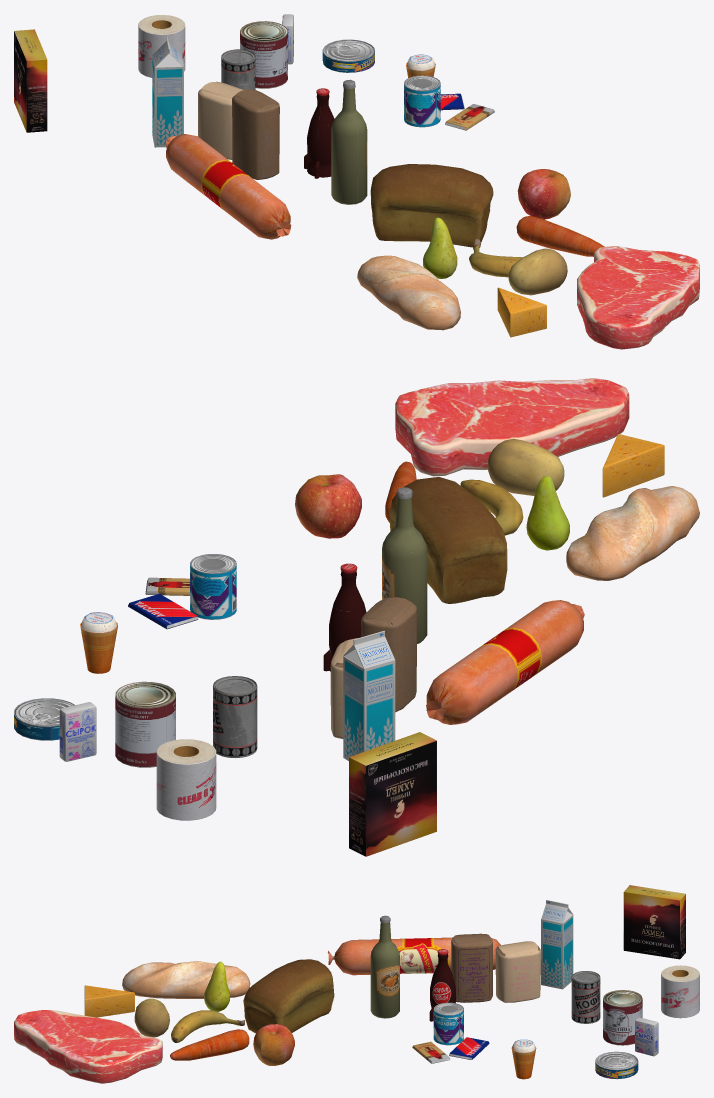
File: russian_food_2000s__food_asset_pack.glb
The picture shows the model from 3 angles, top to bottom: view 1: azimuth 30°, elevation 25°; view 2: azimuth 150°, elevation 25°; view 3: azimuth 270°, elevation 25°; orthographic projection. The views are drawn at different scales.
Parts seen in each view (by area): view 1: meat, bread, sausage, bread1, buckwheat, lemonade, tea, milk, stew, rice, apple, potato (+11 smaller); view 2: meat, sausage, bread, tea, bread1, milk, toilet_paper, stew, lemonade, cofe, buckwheat, apple (+12 smaller); view 3: meat, bread, tea, bread1, sausage, buckwheat, milk, rice, lemonade, toilet_paper, stew, cofe (+13 smaller).
Boxes of the visible parts, x1,y1,x2,y2 form: meat: (577, 246, 699, 349); bread: (370, 164, 493, 247); sausage: (165, 134, 291, 239); bread1: (357, 255, 460, 330); buckwheat: (232, 89, 279, 179); lemonade: (331, 79, 367, 204); tea: (14, 29, 47, 132); milk: (152, 37, 183, 147); stew: (240, 21, 287, 88); rice: (198, 81, 243, 159); apple: (517, 169, 570, 219); potato: (508, 248, 567, 295); meat: (395, 378, 629, 476); sausage: (426, 600, 584, 724); bread: (389, 477, 507, 603); tea: (349, 732, 436, 856); bread1: (566, 486, 699, 580); milk: (343, 630, 395, 760); toilet_paper: (156, 739, 216, 820); stew: (115, 681, 175, 767); lemonade: (382, 487, 427, 643); cofe: (213, 676, 257, 758); buckwheat: (361, 597, 417, 712); apple: (295, 474, 361, 538); meat: (14, 1010, 162, 1083); bread: (243, 959, 334, 1033); tea: (623, 885, 685, 959); bread1: (122, 961, 250, 998); sausage: (328, 937, 500, 975); buckwheat: (451, 933, 492, 1002); milk: (541, 900, 573, 989); rice: (495, 941, 541, 1002); lemonade: (370, 915, 399, 1018); toilet_paper: (661, 965, 699, 1018); stew: (603, 990, 642, 1045); cofe: (571, 971, 600, 1023).
Bounding box in the file's own units: 123 × 39.58 × 254.
2 materials, 2 textured.
